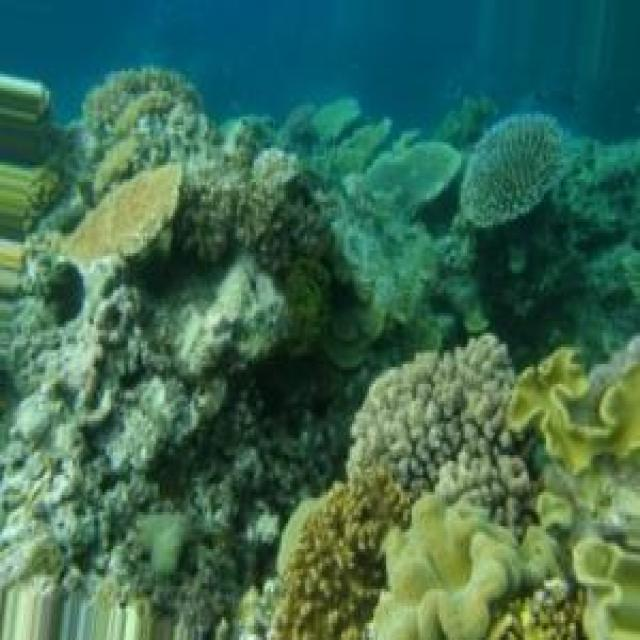bleached coral: (87, 293, 222, 469), (247, 361, 356, 532), (83, 65, 222, 199), (117, 518, 269, 640), (53, 165, 181, 265), (27, 253, 87, 460), (198, 151, 301, 267), (201, 253, 292, 358)
healthy coral: (463, 117, 640, 373), (256, 100, 463, 239), (390, 341, 535, 535), (282, 472, 416, 640), (538, 449, 640, 640), (348, 216, 439, 338), (489, 549, 546, 626)
